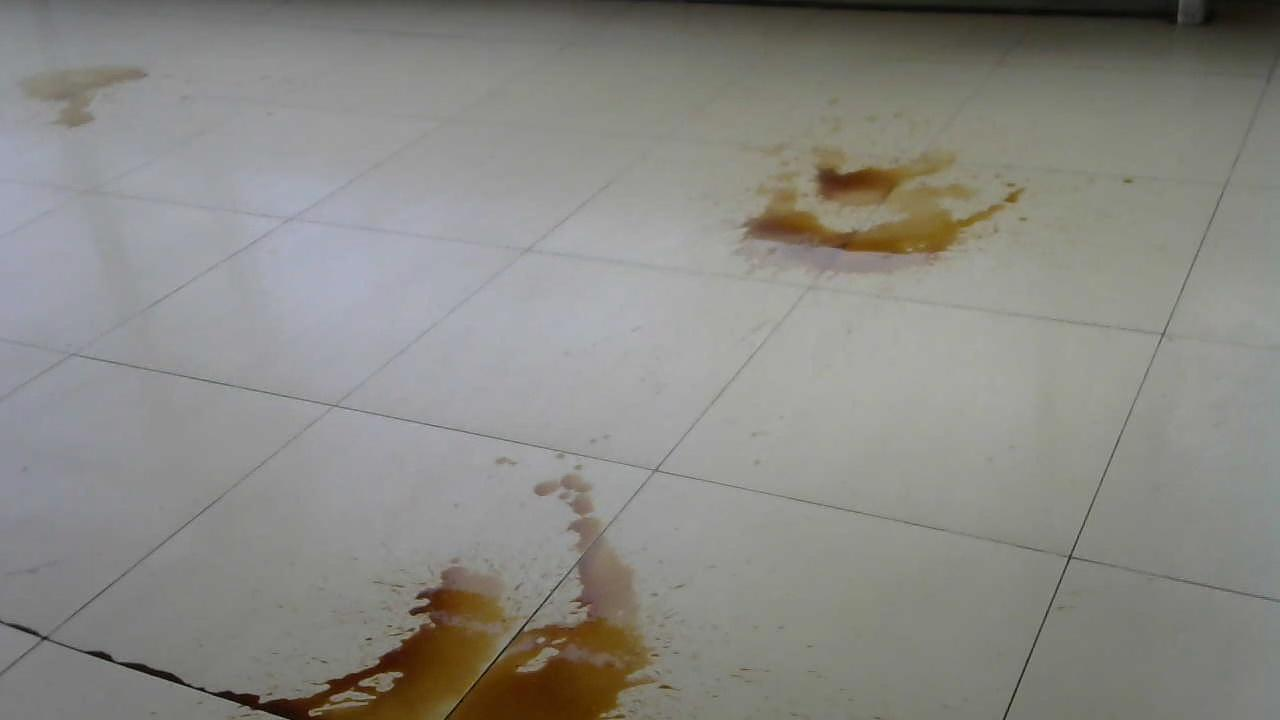dirty_floor: (318, 483, 677, 720), (724, 130, 1051, 295)
